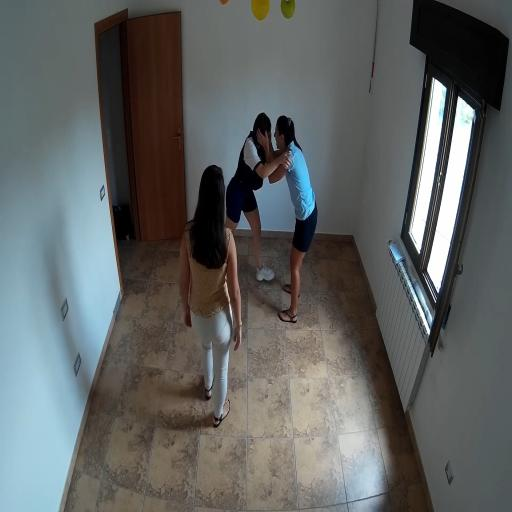nao-violencia: (222, 94, 322, 331)
